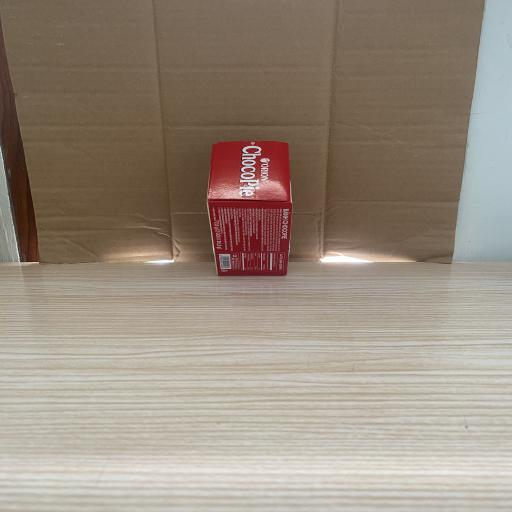chocopie: (206, 140, 292, 276)
